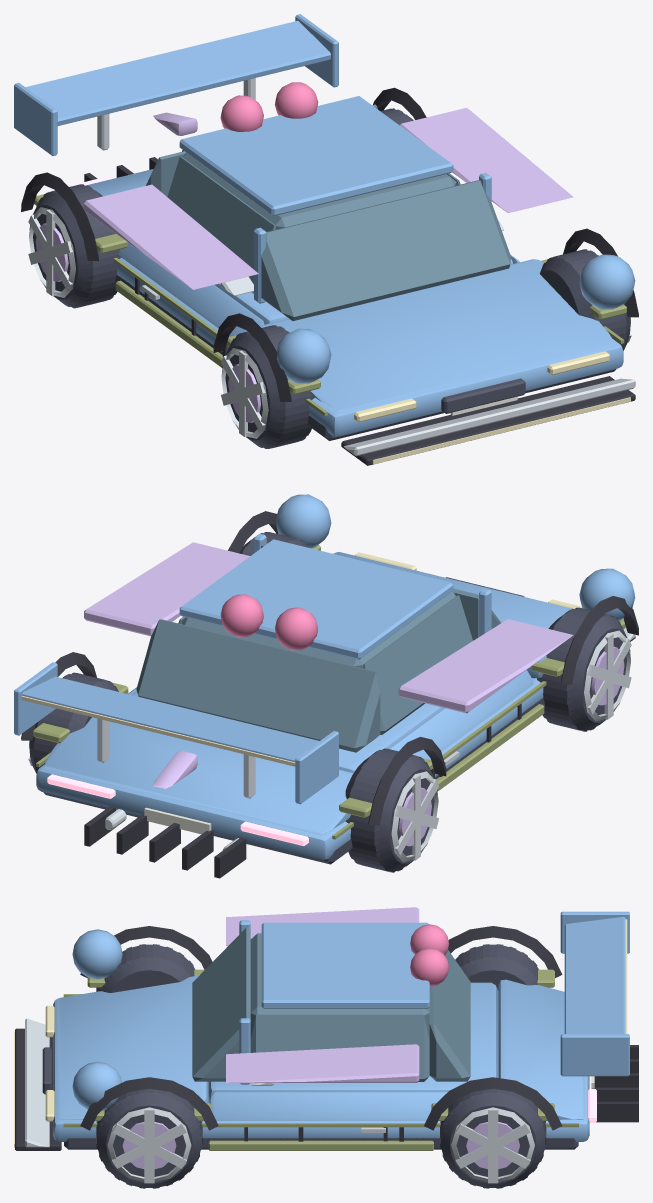
The model's file is rainbow_raptor.fbx.
3 views of the same model, one above another, from view 1: azimuth 30°, elevation 25°; view 2: azimuth 150°, elevation 25°; view 3: azimuth 270°, elevation 25° (orthographic). The views are drawn at different scales.
Visible parts, largest first — view 1: Body, Glass, Accent2, Trim, Metal, Wheel_RR, Accent3, Wheel_FR, Accent, Light, Trim2, Wheel_FL (+2 smaller); view 2: Body, Glass, Accent2, Trim, Metal, Wheel_RR, Wheel_FR, Accent, Accent5, Light, Wheel_RL, Light2 (+3 smaller); view 3: Body, Glass, Trim, Accent2, Metal, Wheel_RL, Wheel_FL, Accent, Wheel_FR, Accent3, Wheel_RR, Accent5 (+3 smaller).
Part boxes in pixels (x1,y1,x2,y2): Body: [14, 14, 635, 436]; Glass: [146, 104, 510, 320]; Accent2: [84, 107, 573, 289]; Trim: [21, 87, 638, 465]; Metal: [28, 78, 631, 438]; Wheel_RR: [29, 184, 121, 308]; Accent3: [220, 220, 635, 456]; Wheel_FR: [222, 325, 314, 448]; Accent: [34, 194, 626, 415]; Light: [354, 351, 630, 464]; Trim2: [115, 274, 616, 440]; Wheel_FL: [539, 249, 630, 350]; Body: [14, 494, 635, 859]; Glass: [136, 542, 500, 752]; Accent2: [84, 542, 573, 788]; Trim: [21, 511, 638, 878]; Metal: [28, 544, 631, 862]; Wheel_RR: [345, 748, 437, 872]; Wheel_FR: [537, 607, 630, 731]; Accent: [33, 545, 625, 839]; Accent5: [220, 594, 318, 650]; Light: [21, 552, 581, 766]; Wheel_RL: [29, 672, 118, 773]; Light2: [47, 774, 308, 845]; Body: [53, 911, 629, 1141]; Glass: [192, 927, 470, 1081]; Trim: [15, 926, 638, 1150]; Accent2: [226, 907, 419, 1082]; Metal: [107, 1107, 534, 1183]; Wheel_RL: [440, 1088, 546, 1188]; Wheel_FL: [96, 1088, 202, 1188]; Accent: [63, 969, 578, 1150]; Wheel_FR: [96, 944, 195, 992]; Accent3: [25, 1018, 273, 1147]; Wheel_RR: [455, 944, 538, 990]; Accent5: [410, 924, 448, 986].
Size of the model in its own units: 3.55 by 1.74 by 5.59.
